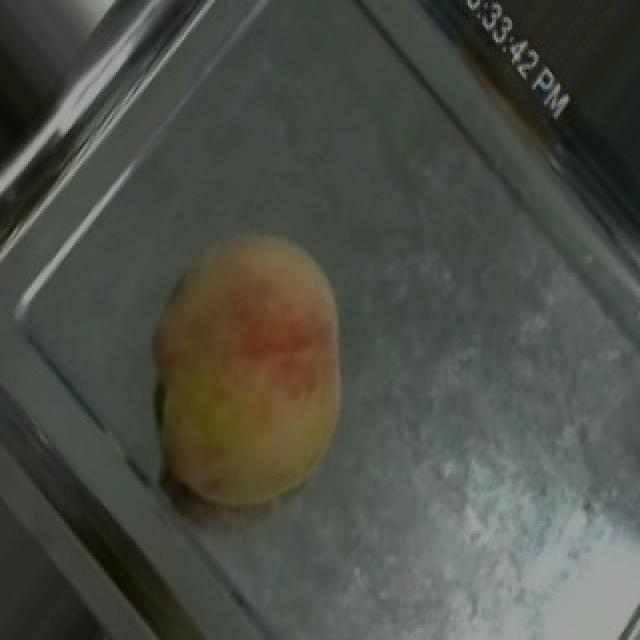Fruit: (104, 191, 396, 551)
